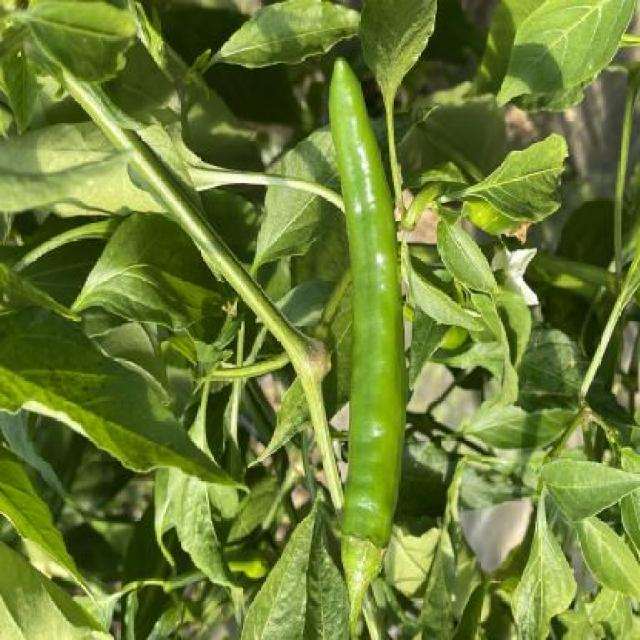green chilli: (329, 57, 406, 580)
